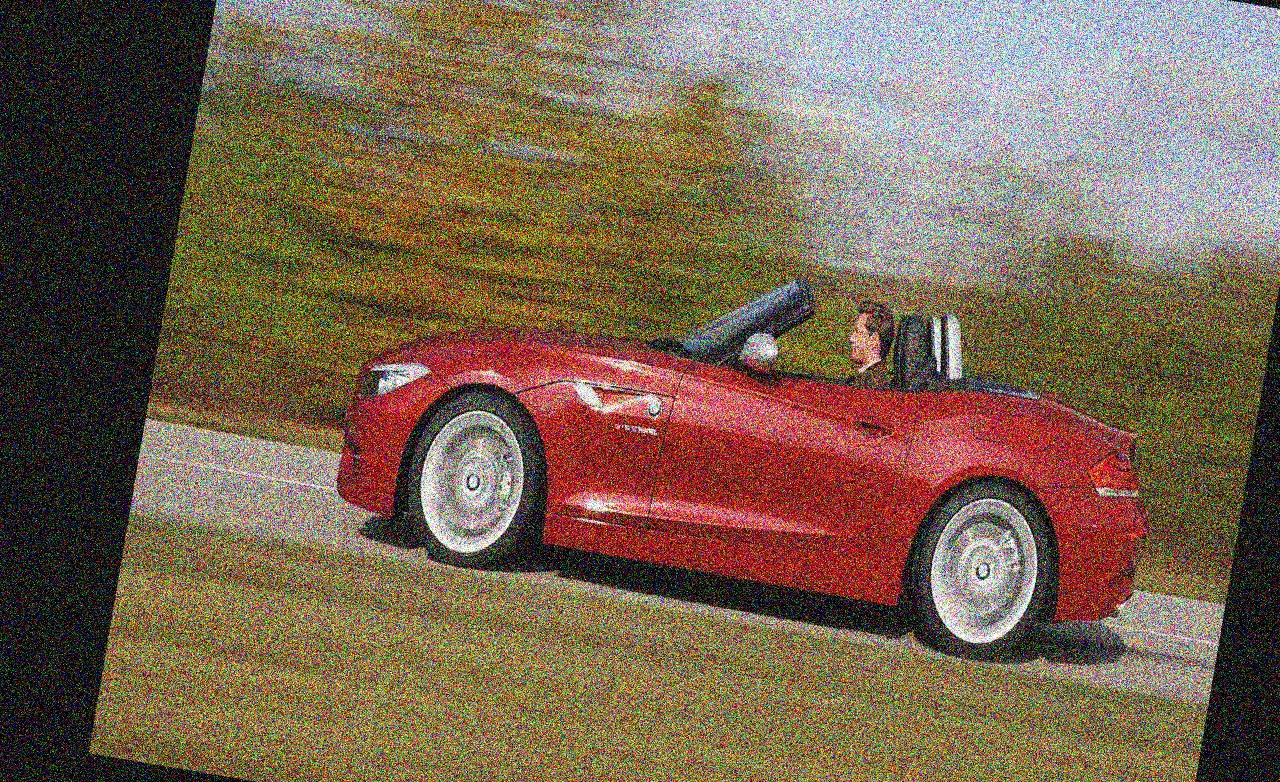car: (266, 158, 1227, 752)
